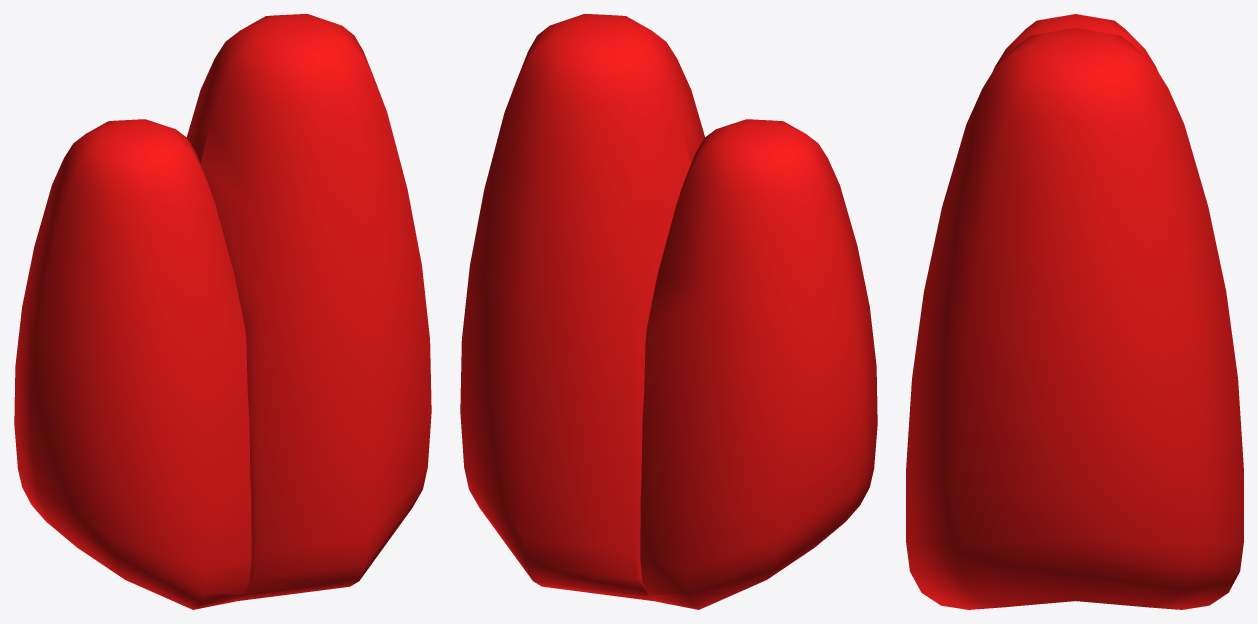
File: carneCamelloTextura.fbx
The picture shows the model from 3 angles, left to right: view 1: azimuth 30°, elevation 25°; view 2: azimuth 150°, elevation 25°; view 3: azimuth 270°, elevation 25°; orthographic projection. The views are drawn at different scales.
Visible parts, largest first — view 1: Cylinder007_collapsed; view 2: Cylinder007_collapsed; view 3: Cylinder007_collapsed.
Part boxes in pixels (x1=…): Cylinder007_collapsed: x1=14, y1=14, x2=431, y2=609; Cylinder007_collapsed: x1=460, y1=14, x2=877, y2=609; Cylinder007_collapsed: x1=906, y1=14, x2=1243, y2=609.
Size of the model in its own units: 0.8024 by 1.07 by 0.5623.
